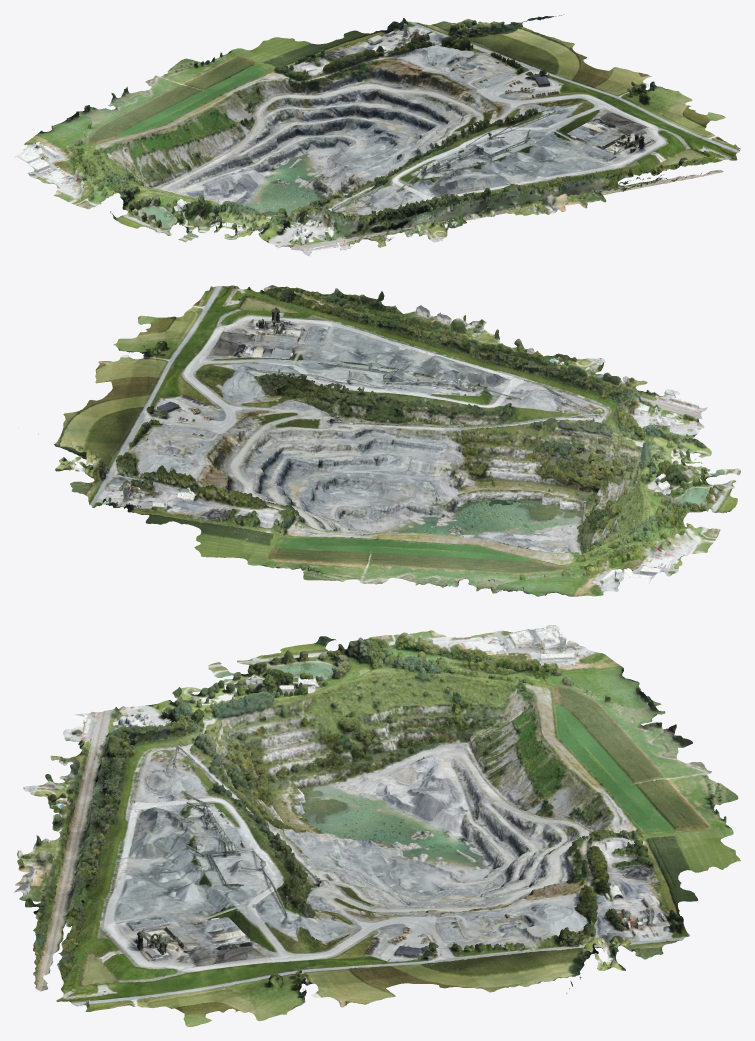
Rendered from paradise_quarry.compressed.glb.
The picture shows the model from 3 angles, top to bottom: view 1: azimuth 30°, elevation 25°; view 2: azimuth 150°, elevation 25°; view 3: azimuth 270°, elevation 25°; orthographic projection. The views are drawn at different scales.
Visible parts, largest first — view 1: mesh_out_node_texture_material_0; view 2: mesh_out_node_texture_material_0; view 3: mesh_out_node_texture_material_0.
Part boxes in pixels (x1,y1,x2,y2): mesh_out_node_texture_material_0: (14, 14, 740, 256); mesh_out_node_texture_material_0: (54, 285, 740, 596); mesh_out_node_texture_material_0: (14, 625, 740, 1026).
Bounding box in the file's own units: 24.05 × 2.86 × 18.63.
Materials: 1 (1 with a texture image).
